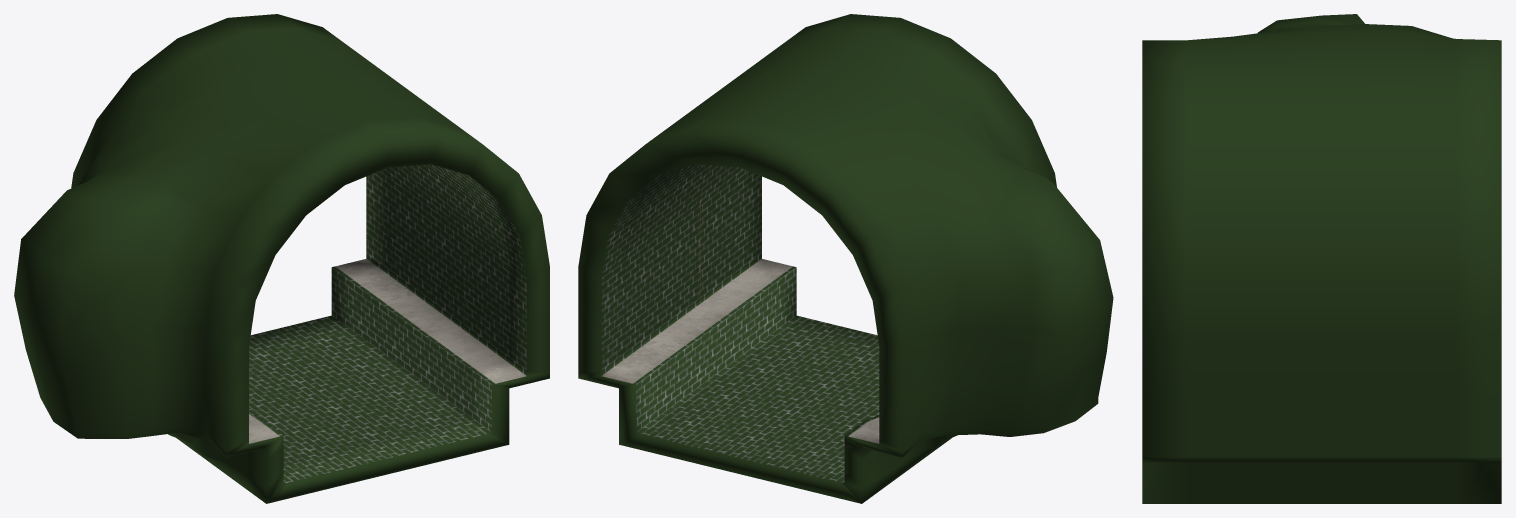
File: Sewer_Modular_Straight_1_002.fbx
3 renders of one model, left to right at view 1: azimuth 30°, elevation 25°; view 2: azimuth 150°, elevation 25°; view 3: azimuth 270°, elevation 25°, orthographic. The views are drawn at different scales.
Parts seen in each view (by area): view 1: Module_straight.main.028; view 2: Module_straight.main.028; view 3: Module_straight.main.028.
Boxes of the visible parts, box(x1,y1,x2,y2) form: Module_straight.main.028: box(14, 14, 549, 503); Module_straight.main.028: box(578, 14, 1113, 503); Module_straight.main.028: box(1142, 14, 1501, 503).
Size of the model in its own units: 1262 by 933 by 800.
